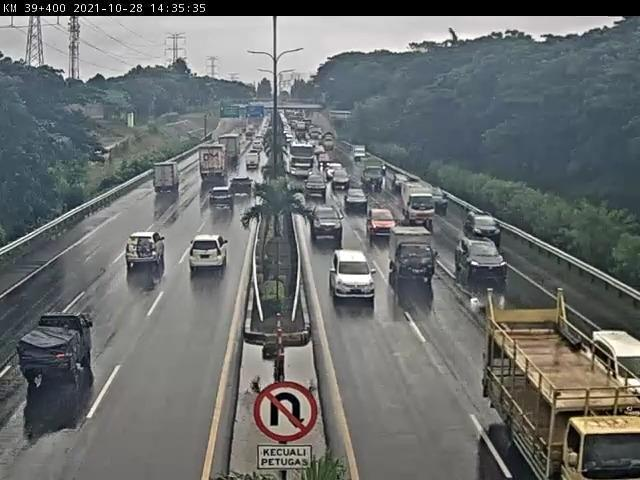car: (22, 313, 97, 393), (591, 318, 640, 389), (392, 232, 435, 282), (456, 236, 507, 276), (333, 250, 374, 296), (190, 233, 232, 274), (125, 232, 169, 270), (311, 206, 343, 240), (466, 213, 500, 241), (366, 204, 393, 231), (207, 188, 237, 212), (344, 188, 368, 210), (230, 177, 253, 199), (303, 175, 328, 195), (433, 190, 449, 210), (245, 153, 262, 171), (333, 173, 350, 191), (326, 164, 341, 175), (253, 142, 265, 153)
truck: (483, 296, 640, 480), (401, 184, 434, 226), (197, 146, 229, 185), (289, 141, 318, 177), (155, 163, 184, 191), (220, 135, 244, 167), (362, 160, 386, 190)
